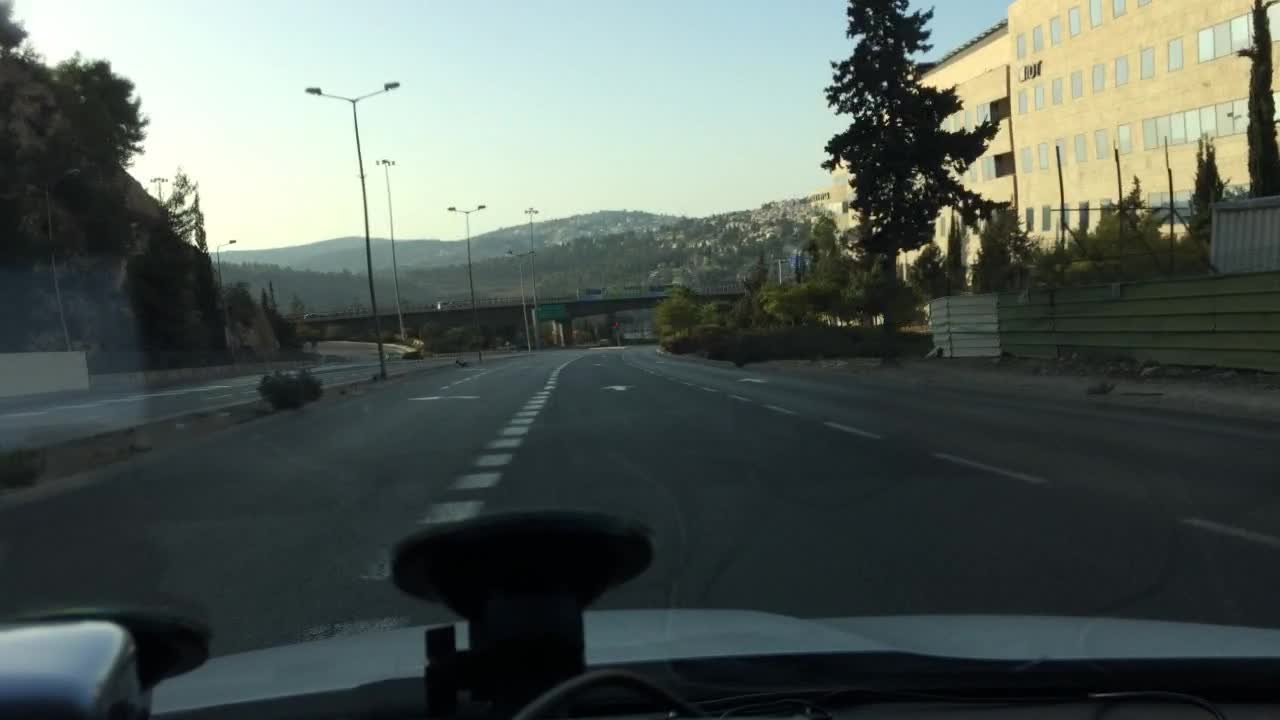car: (434, 296, 454, 312), (400, 349, 421, 362), (300, 311, 324, 321)
traffic sign: (534, 301, 567, 318)
